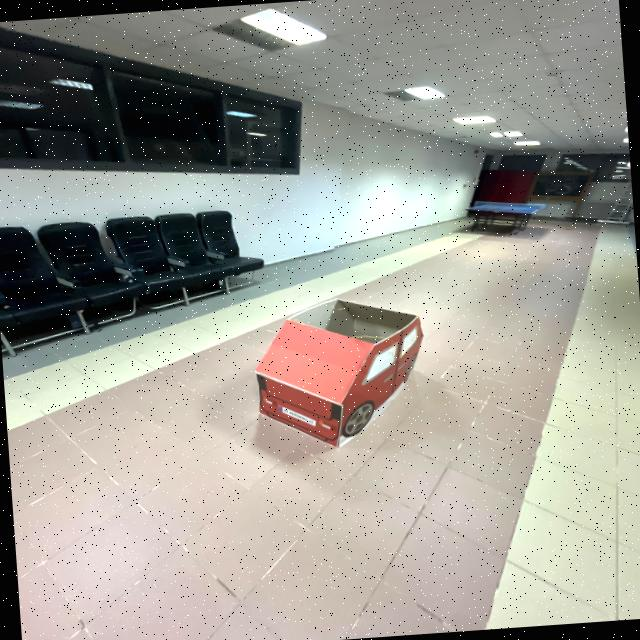red_car: (232, 283, 444, 467)
